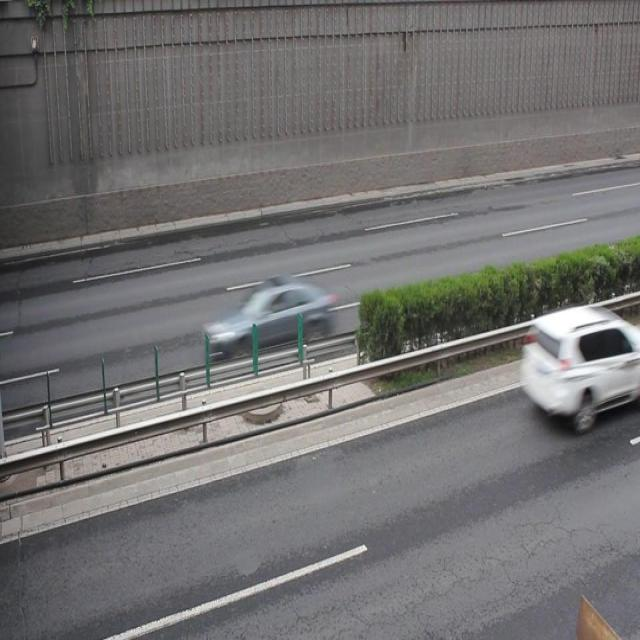car: (519, 304, 640, 428), (204, 274, 335, 364)
